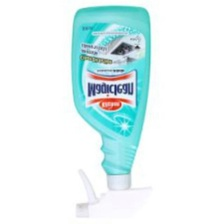cleaning_solution: (69, 2, 153, 220)
